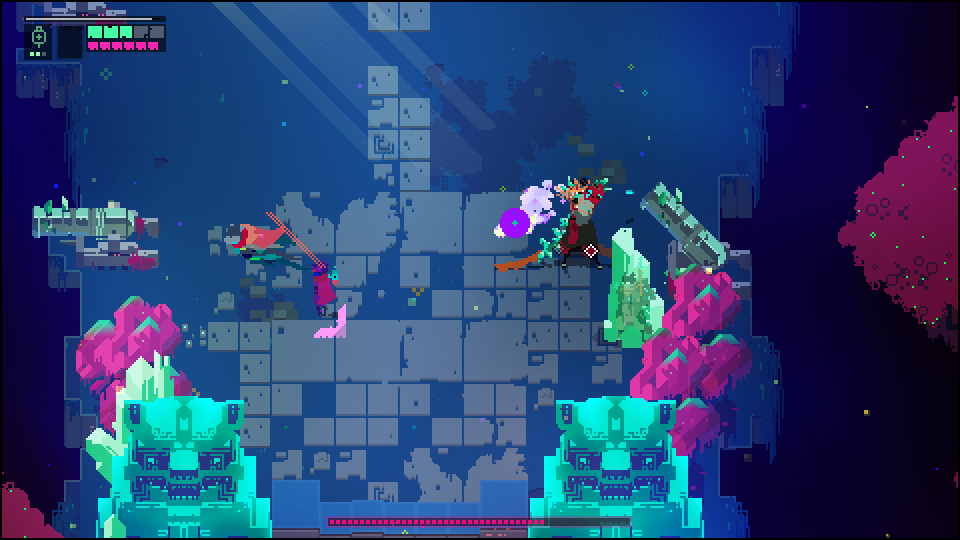hanged_man: (529, 173, 609, 273)
hanged_shot: (499, 207, 530, 240)
player: (222, 221, 289, 258)
